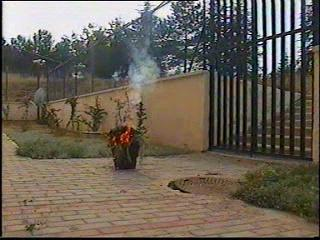smoke: (127, 57, 151, 92)
